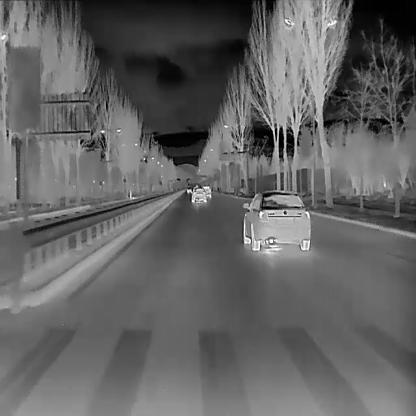car: (241, 188, 311, 250), (190, 187, 206, 201), (202, 184, 212, 198), (186, 186, 192, 193), (194, 183, 198, 187)
